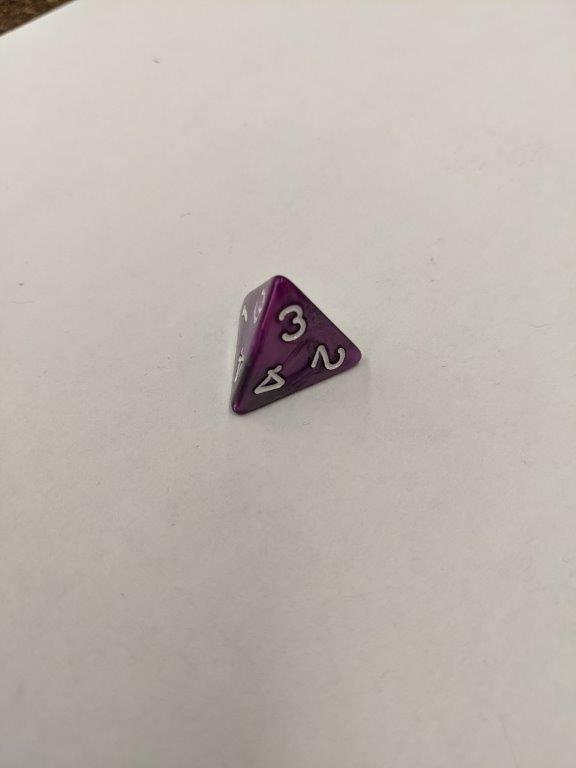d4-3: (223, 271, 366, 418)
